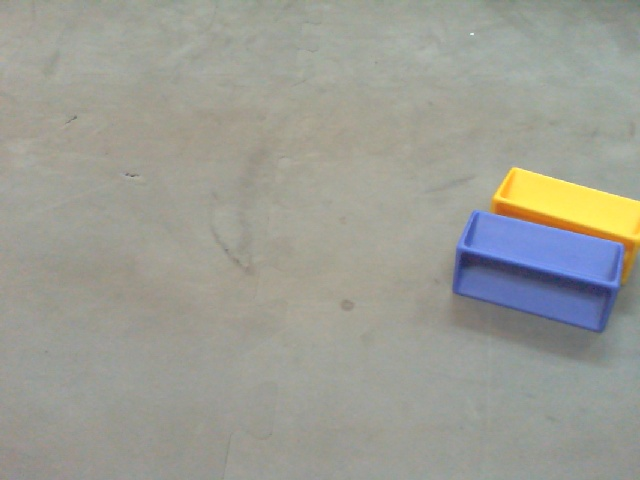BlueSample: (448, 210, 627, 334)
YellowSample: (488, 167, 640, 278)
